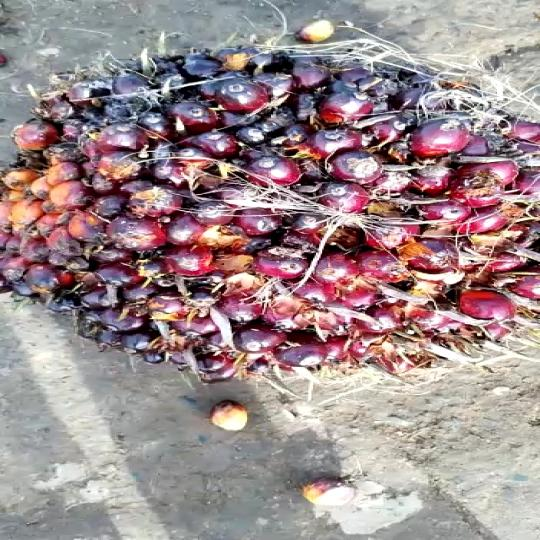masak: (0, 26, 540, 391)
